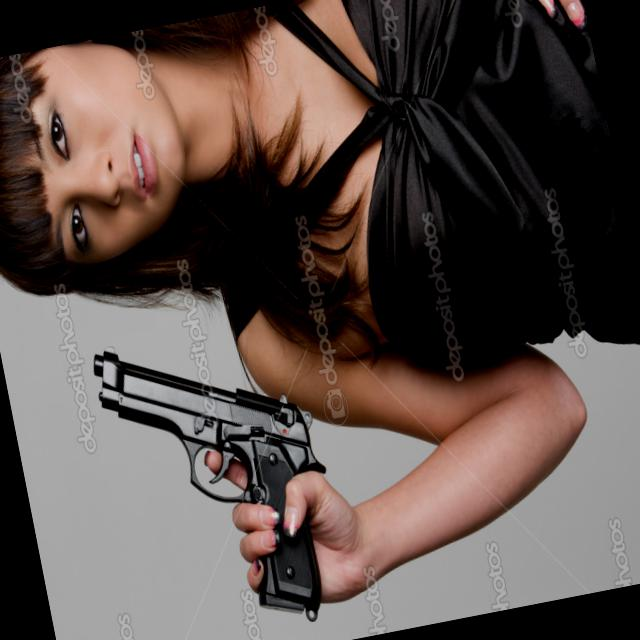handgun: (84, 313, 353, 639)
